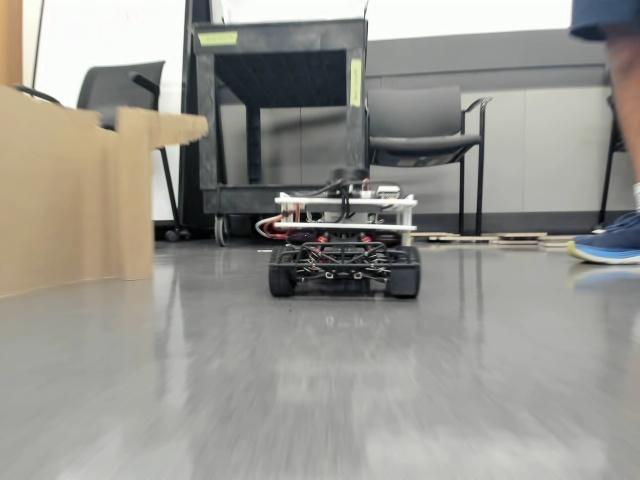Car: (255, 165, 420, 303)
